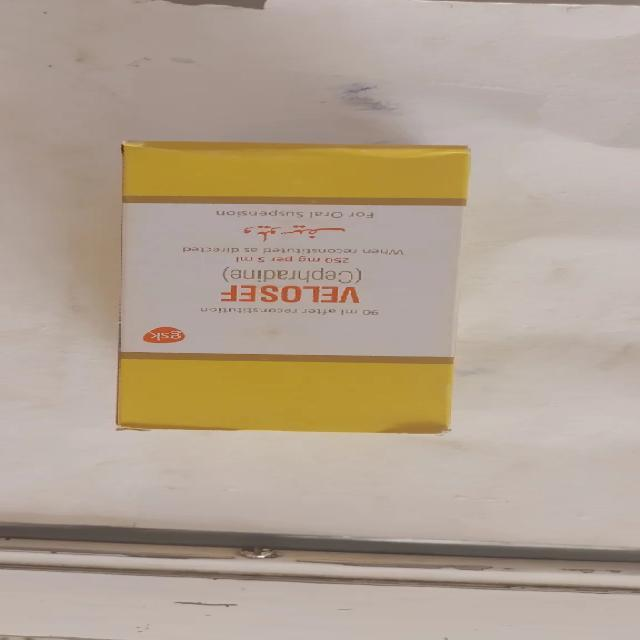drug-name: (218, 284, 360, 304)
